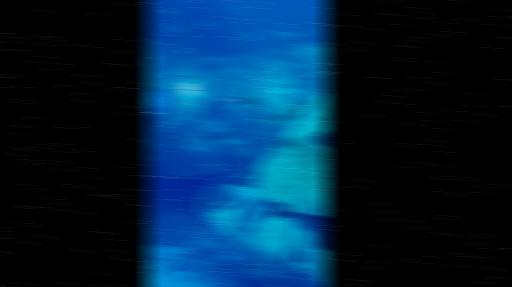Fish: (267, 98, 310, 127), (261, 28, 306, 45), (268, 201, 293, 219), (239, 96, 264, 107), (214, 200, 236, 211), (315, 131, 328, 147), (244, 157, 263, 166), (246, 264, 263, 273), (278, 138, 289, 150), (296, 251, 307, 262), (245, 31, 258, 40), (158, 127, 169, 137), (246, 118, 261, 124), (155, 56, 166, 62), (163, 9, 176, 14), (166, 23, 174, 29), (200, 22, 209, 27), (282, 24, 291, 29), (171, 28, 182, 32), (161, 31, 169, 36), (253, 88, 260, 93), (238, 174, 249, 177), (243, 134, 249, 139), (182, 51, 188, 54)
